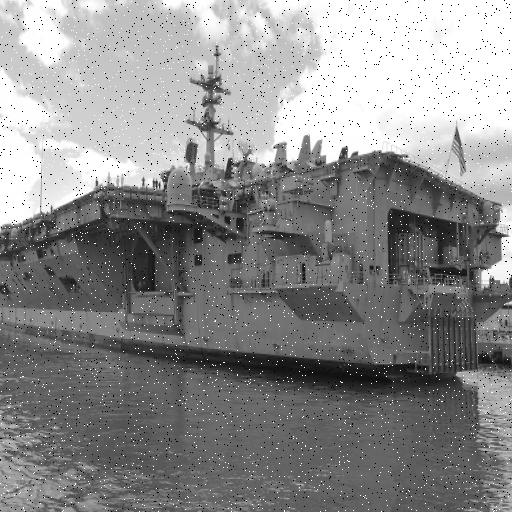Portanaves: (1, 42, 512, 387)
